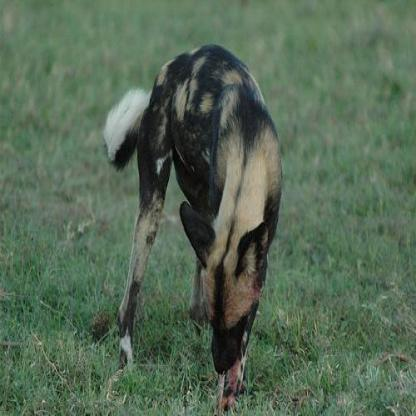African_hunting_dog: (102, 40, 284, 410)
